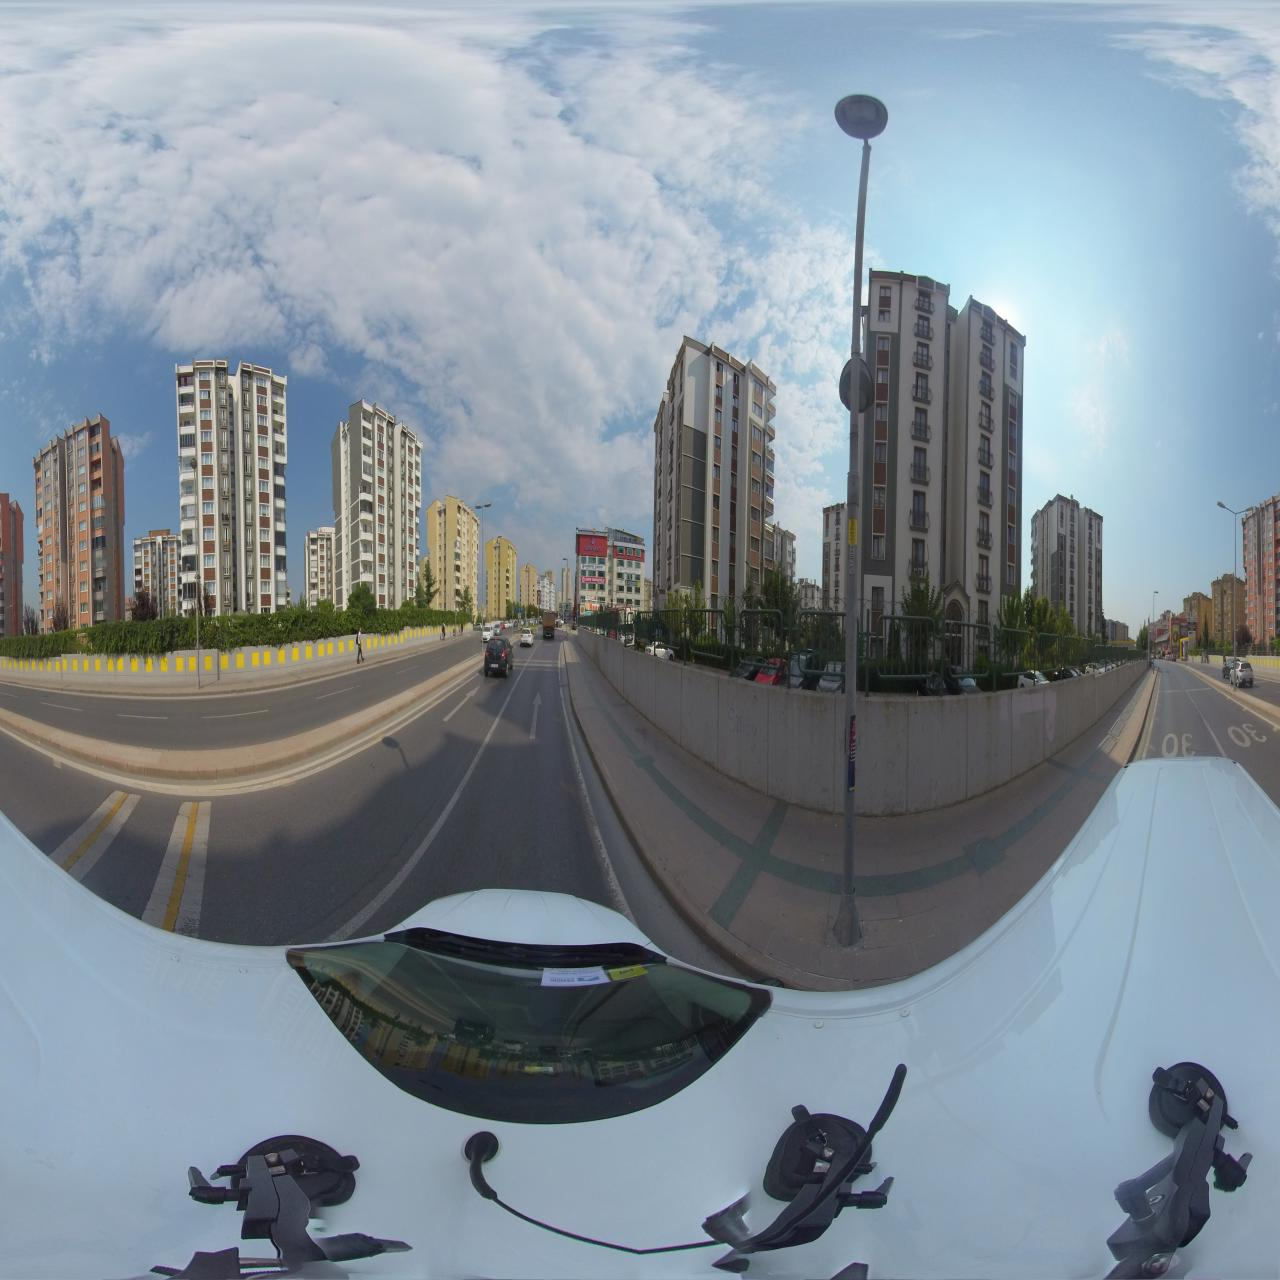SignStore: (580, 563, 606, 571), (619, 566, 641, 574), (580, 577, 606, 584), (625, 580, 641, 587)
